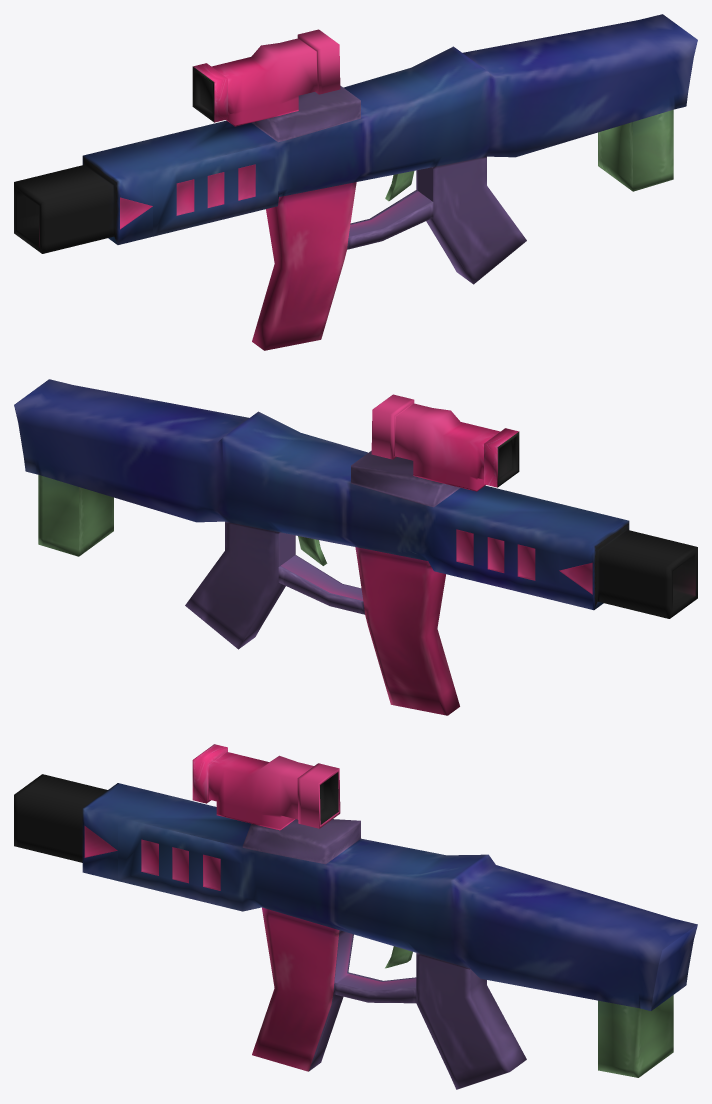
Rendered from matralleta.fbx.
3 views of the same model, one above another, from view 1: azimuth 30°, elevation 25°; view 2: azimuth 150°, elevation 25°; view 3: azimuth 330°, elevation 25° (orthographic).
Visible parts, largest first — view 1: pCube3; view 2: pCube3; view 3: pCube3.
Part boxes in pixels (box(x1,y1,x2,y2)): pCube3: box(14, 14, 697, 350); pCube3: box(14, 379, 697, 715); pCube3: box(14, 744, 697, 1089).
Bounding box in the file's own units: 136 × 58.91 × 12.76.
Materials: 1 (1 with a texture image).
